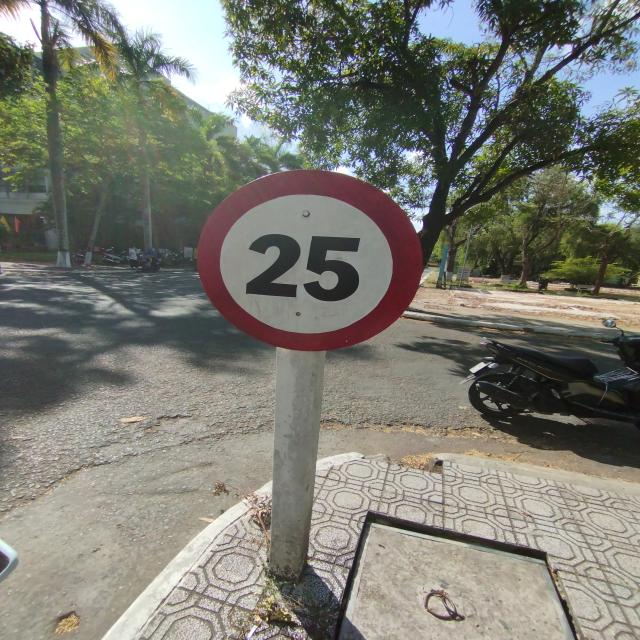Tre_Em: (197, 169, 424, 351)
